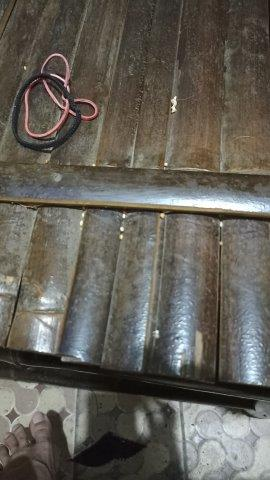karet: (12, 53, 98, 149)
